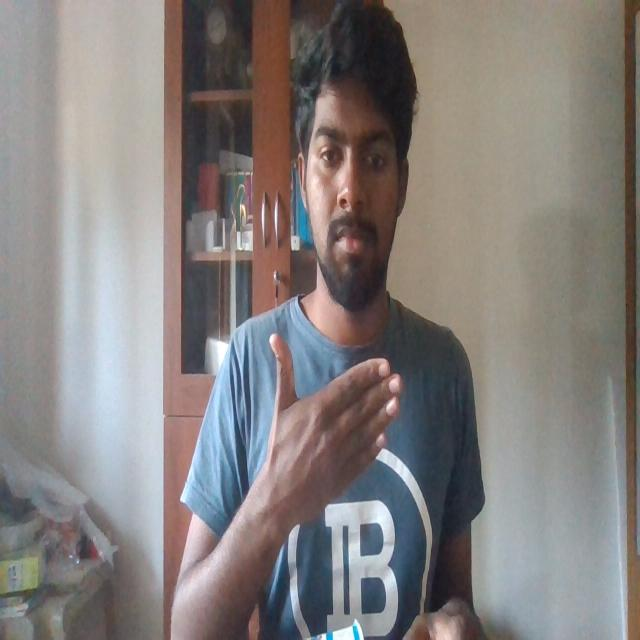Please: (262, 320, 407, 526)
